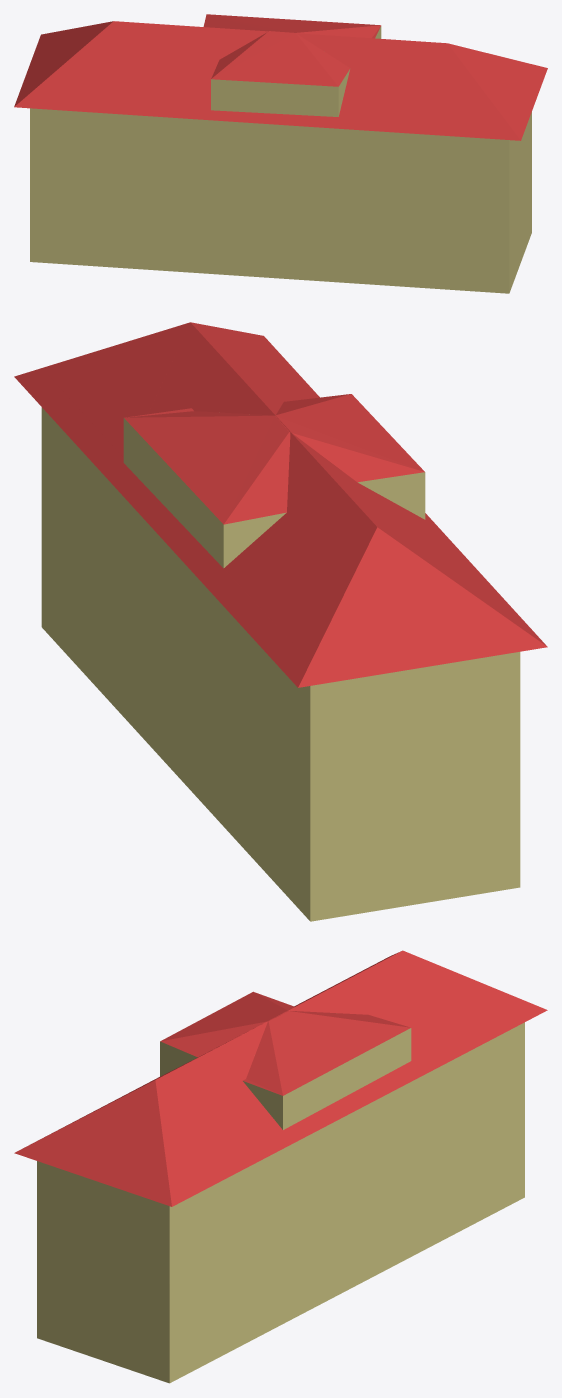
3 renders of one model, top to bottom at view 1: azimuth 30°, elevation 25°; view 2: azimuth 150°, elevation 25°; view 3: azimuth 270°, elevation 25°, orthographic. The views are drawn at different scales.
Visible parts, largest first — view 1: group_7, group_3, group_4, group_6, group_5; view 2: group_7, group_3, group_4, group_5, group_6; view 3: group_7, group_3, group_4, group_5, group_6.
Part boxes in pixels (x1,y1,x2,y2): group_7: (30,108,531,293); group_3: (14,21,547,140); group_4: (203,14,380,86); group_6: (15,33,547,140); group_5: (211,26,381,116); group_7: (41,407,520,921); group_3: (14,322,547,687); group_4: (124,394,424,524); group_5: (123,418,425,568); group_6: (15,334,545,686); group_7: (37,1022,524,1383); group_3: (14,950,547,1206); group_4: (160,991,410,1095); group_5: (160,1028,411,1129); group_6: (15,1019,529,1206).
Bounding box in the file's own units: 36.38 × 32.74 × 17.04.
